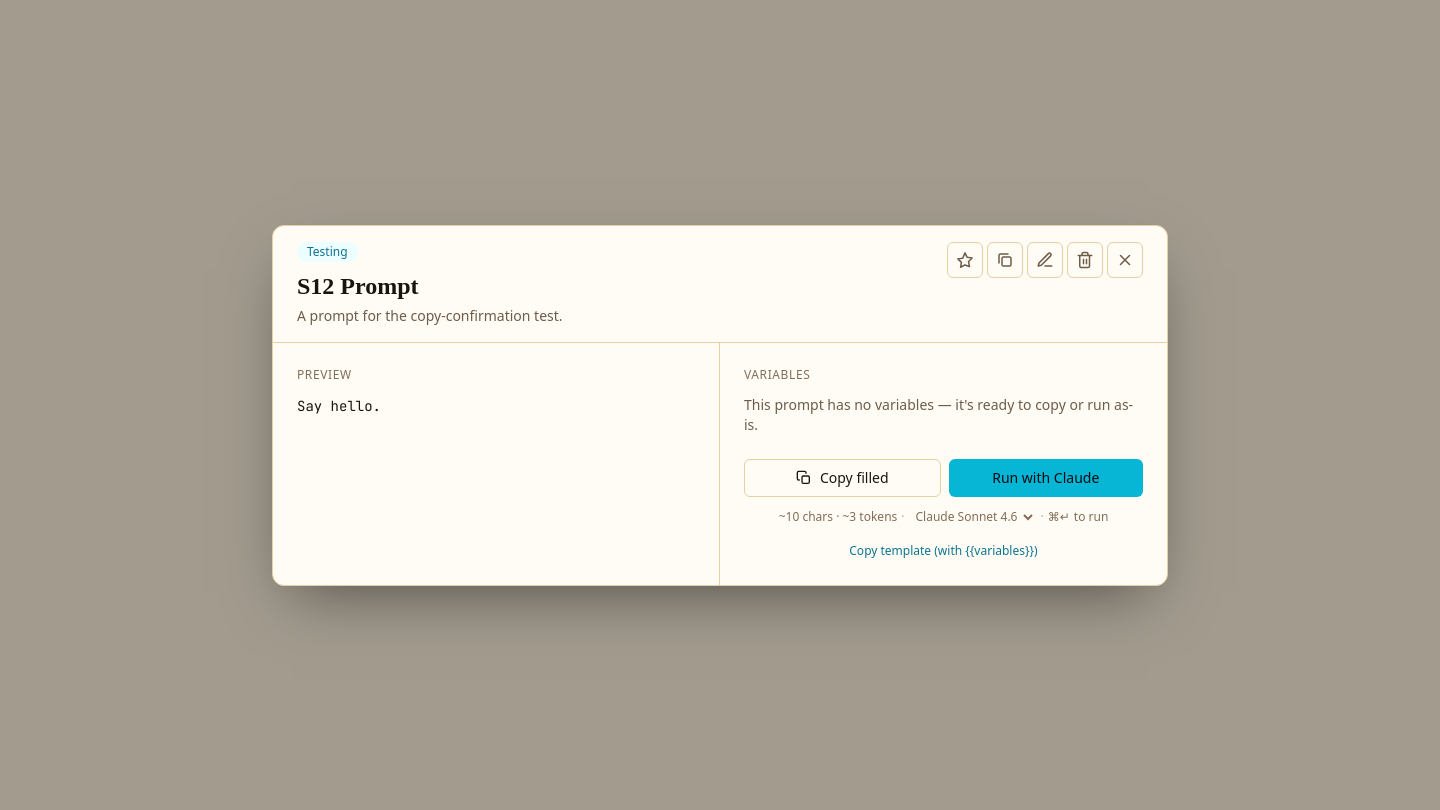
PromptDetail — S12: copy-confirmation flourish (B2) › primary Copy filled copies and confirms with the `>_` signature glyph
Step 1. Click the button with aria-label "Copy filled prompt" → (842, 478), box [744, 458, 940, 496]
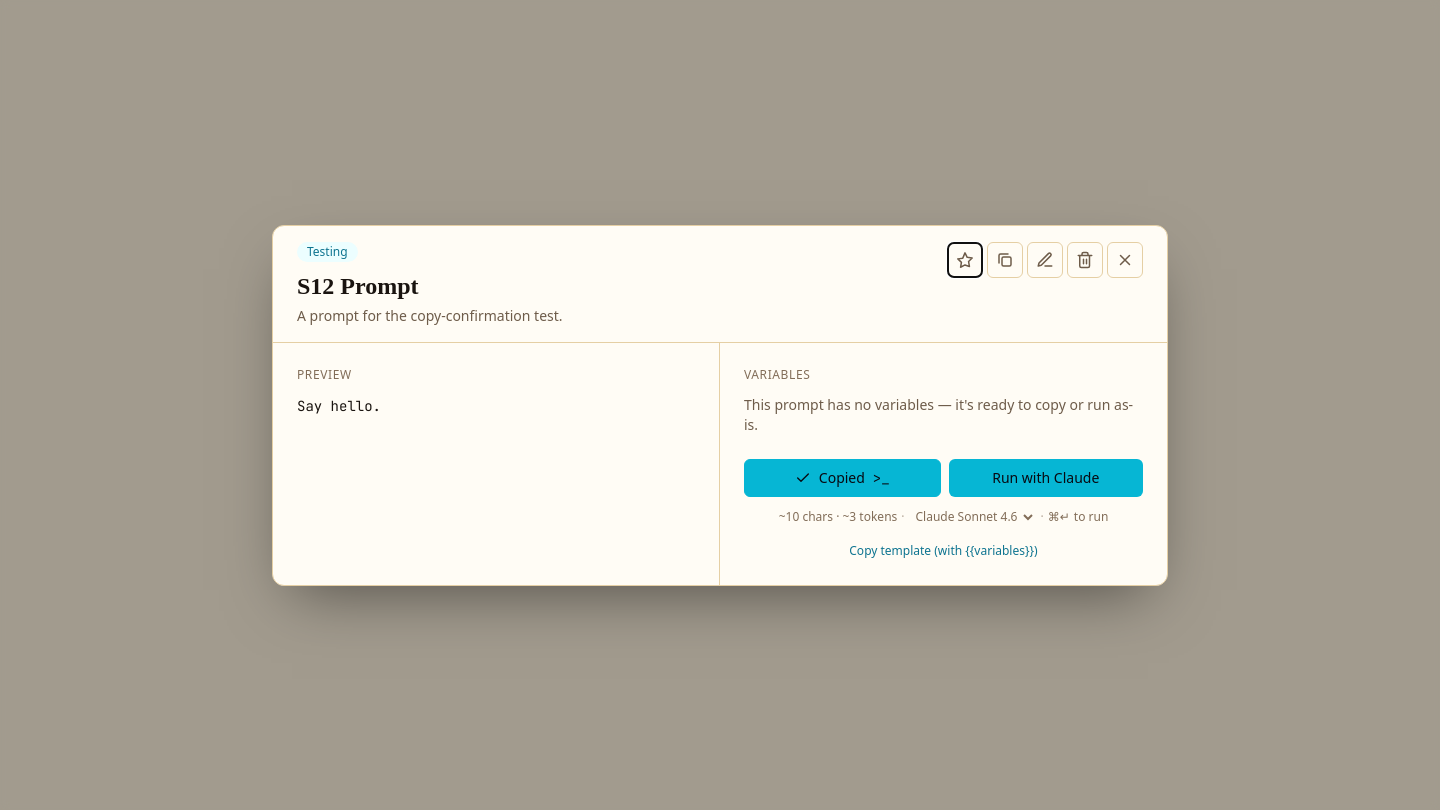
Expected: the button with aria-label "Filled prompt copied" is shown, [744, 458, 940, 496]
Expected: the text ">_" is shown, [873, 468, 890, 488]
Expected: the text "Copied" is shown, [819, 468, 865, 488]
